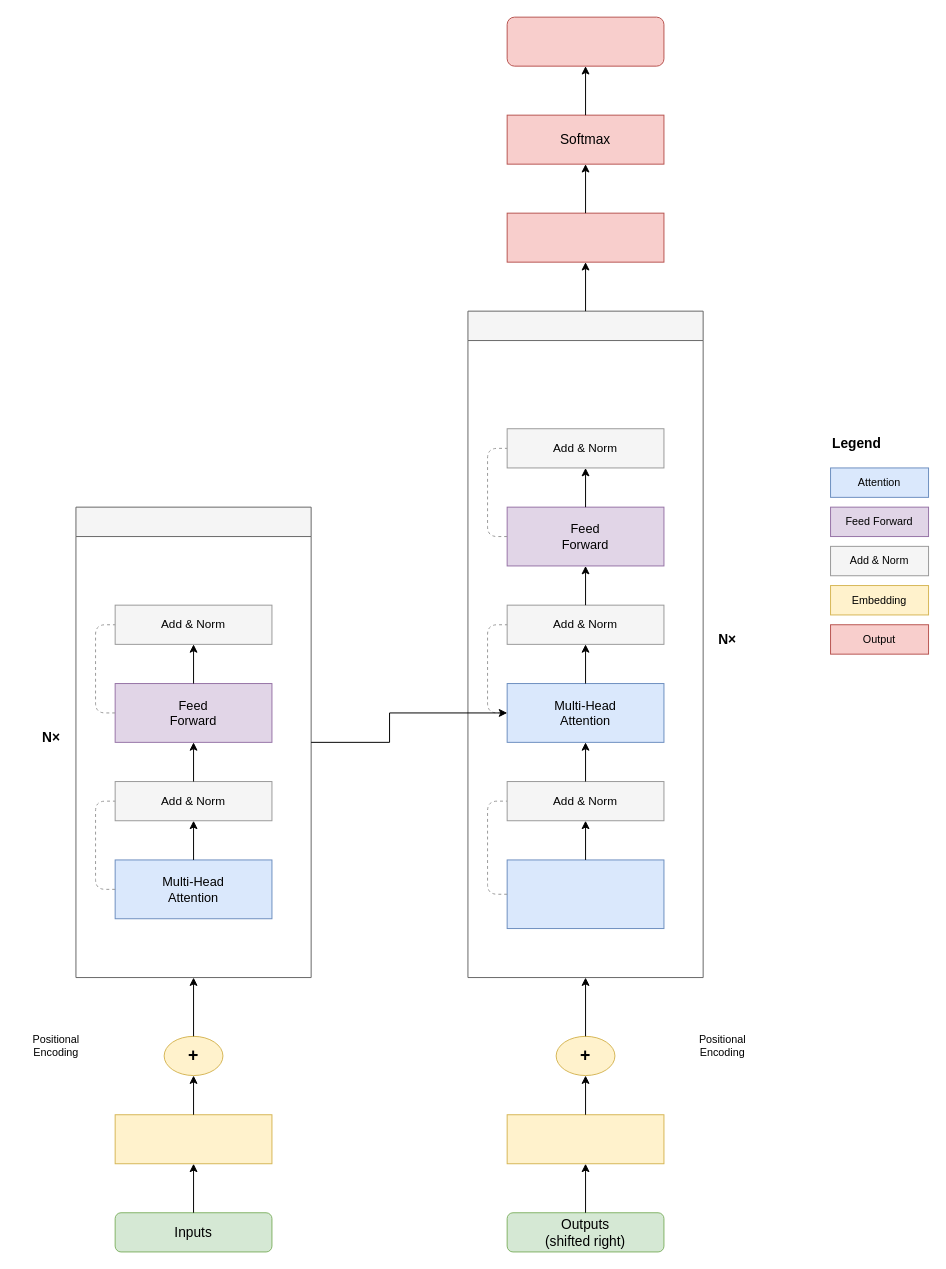
Image size: 946x1269. Some labels were removed from this diagram. The shapes that lost their labels are listed below. From the top down, each one's box as (x1, y1, x2, y2) in pixels, then its label:
(506, 16, 664, 66): Output Probabilities
(506, 212, 664, 262): Linear
(467, 310, 703, 978): Decoder
(75, 506, 311, 978): Encoder
(506, 859, 664, 929): Masked Multi-Head Attention
(114, 1114, 272, 1164): Input Embedding
(506, 1114, 664, 1164): Output Embedding
